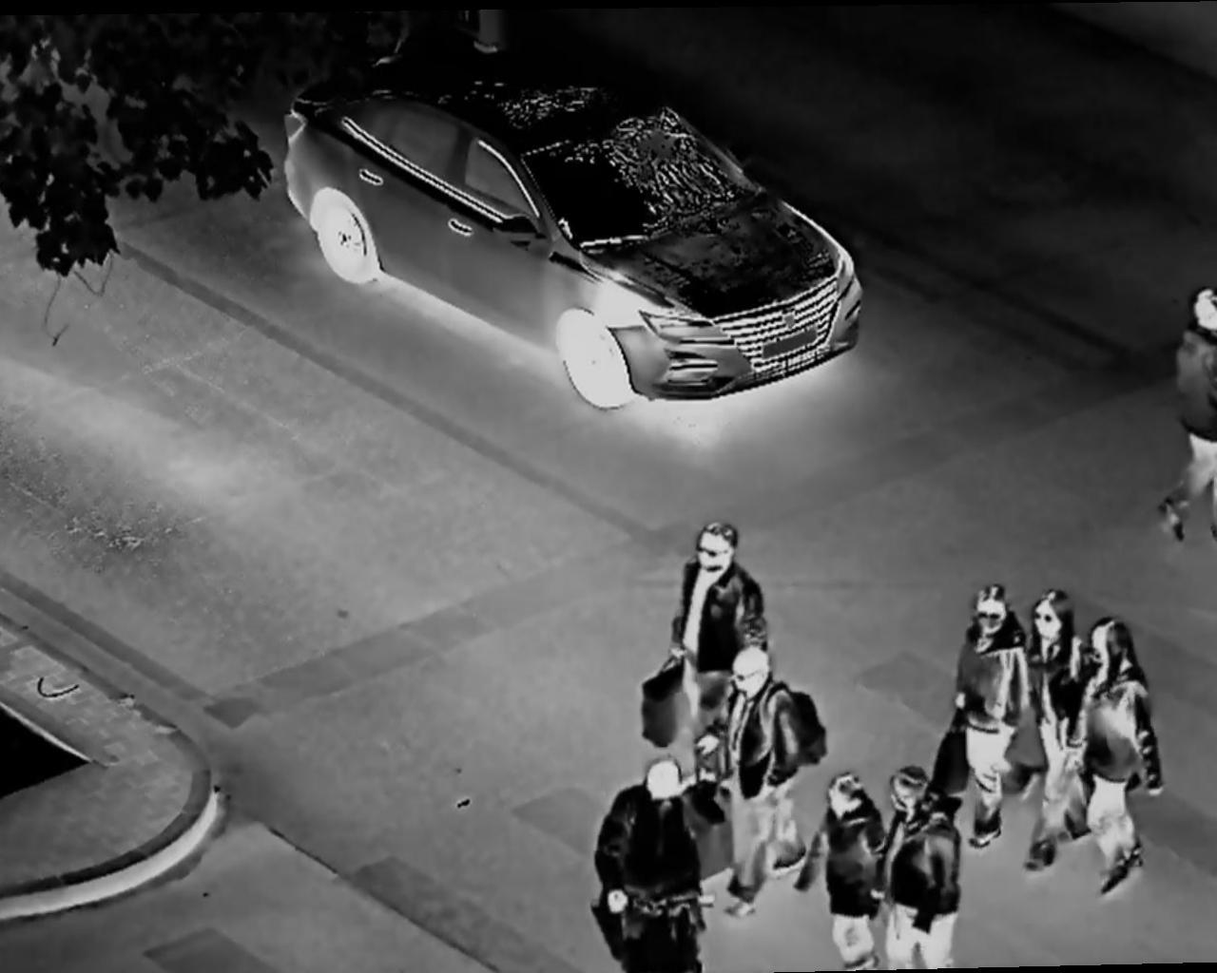person: (585, 747, 720, 973), (1072, 621, 1176, 896), (705, 651, 809, 874), (653, 503, 750, 729), (954, 579, 1032, 841), (1024, 589, 1094, 870), (879, 767, 965, 973), (1157, 283, 1217, 547), (816, 771, 881, 973)
